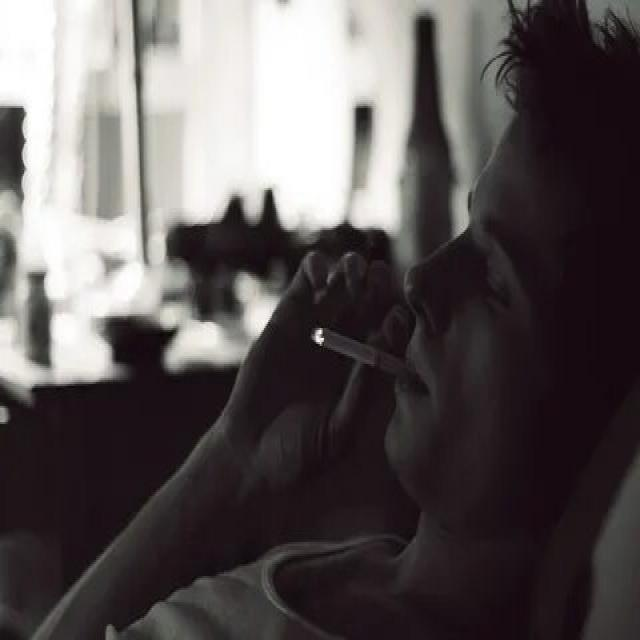smoke: (308, 322, 415, 394)
